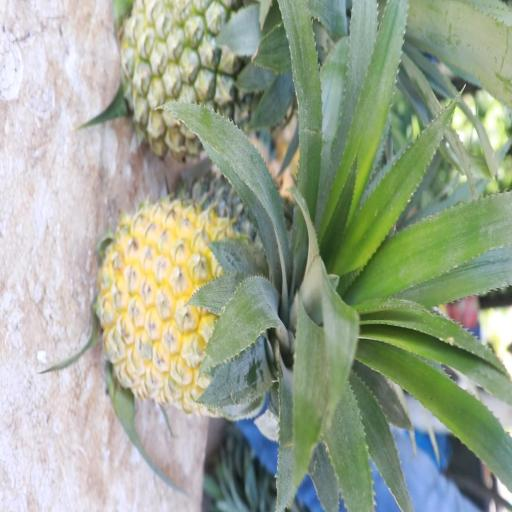------------------------------: (121, 0, 332, 153)
Pineapple - v8 v1: (99, 198, 342, 416)
